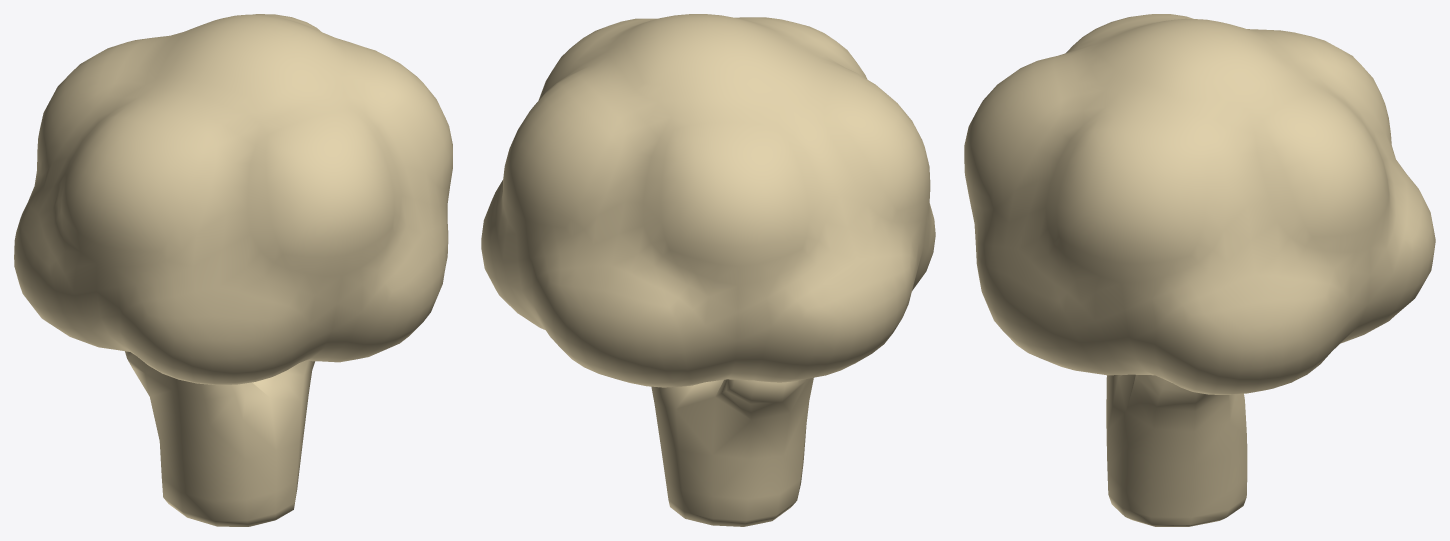
Rendered from Cauliflower_02.dae.
3 views of the same model, side by side, from view 1: azimuth 30°, elevation 25°; view 2: azimuth 150°, elevation 25°; view 3: azimuth 270°, elevation 25° (orthographic). The views are drawn at different scales.
Parts seen in each view (by area): view 1: Cauliflower_02_LOD0; view 2: Cauliflower_02_LOD0; view 3: Cauliflower_02_LOD0.
Part boxes in pixels (x1,y1,x2,y2): Cauliflower_02_LOD0: (14,14,452,526); Cauliflower_02_LOD0: (481,14,935,526); Cauliflower_02_LOD0: (964,14,1435,526).
Size of what is drawn, in the model's own units: 5.12 by 5.16 by 5.83.
